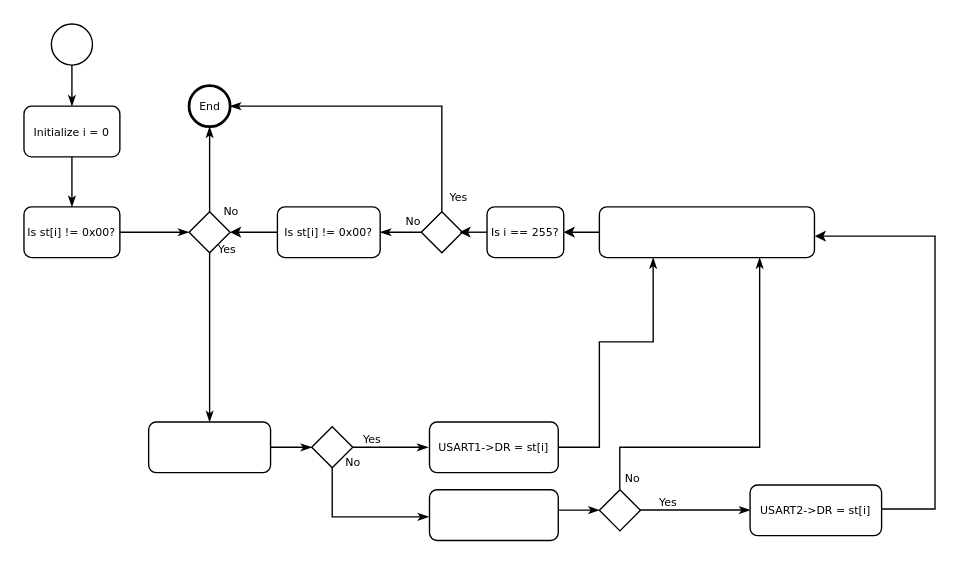
The diagram is 969 pixels wide and 564 high, and some of its shapes have lost their labels. Each missing label, with the centre of its shape:
"Is USARTport == 1?" belongs at pixel 209 447.
"Is USARTport == 2?" belongs at pixel 493 514.
"Start" belongs at pixel 71 44.
"Wait while !((USART1->SR>>7)&0x1)" belongs at pixel 706 232.
